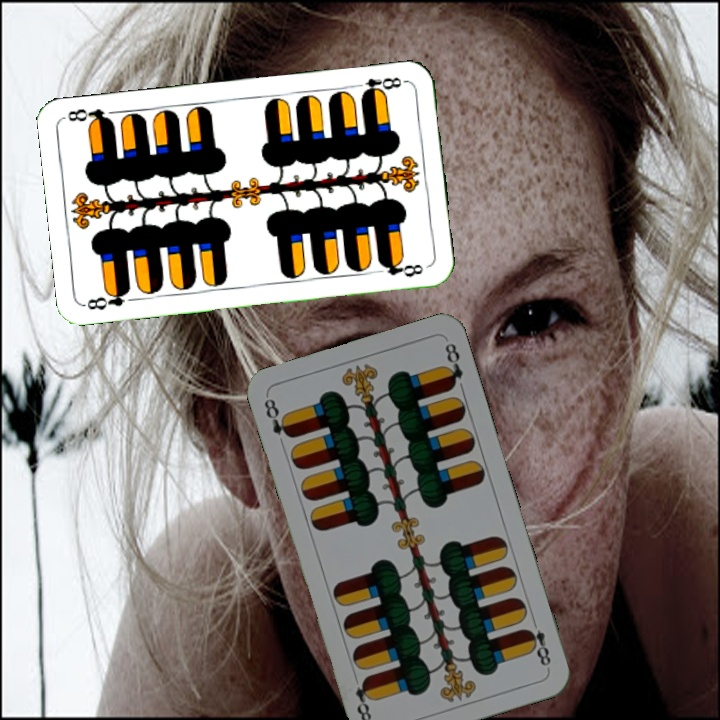E8: (521, 614, 554, 672), (260, 394, 295, 441), (350, 73, 409, 100), (81, 284, 133, 313)
